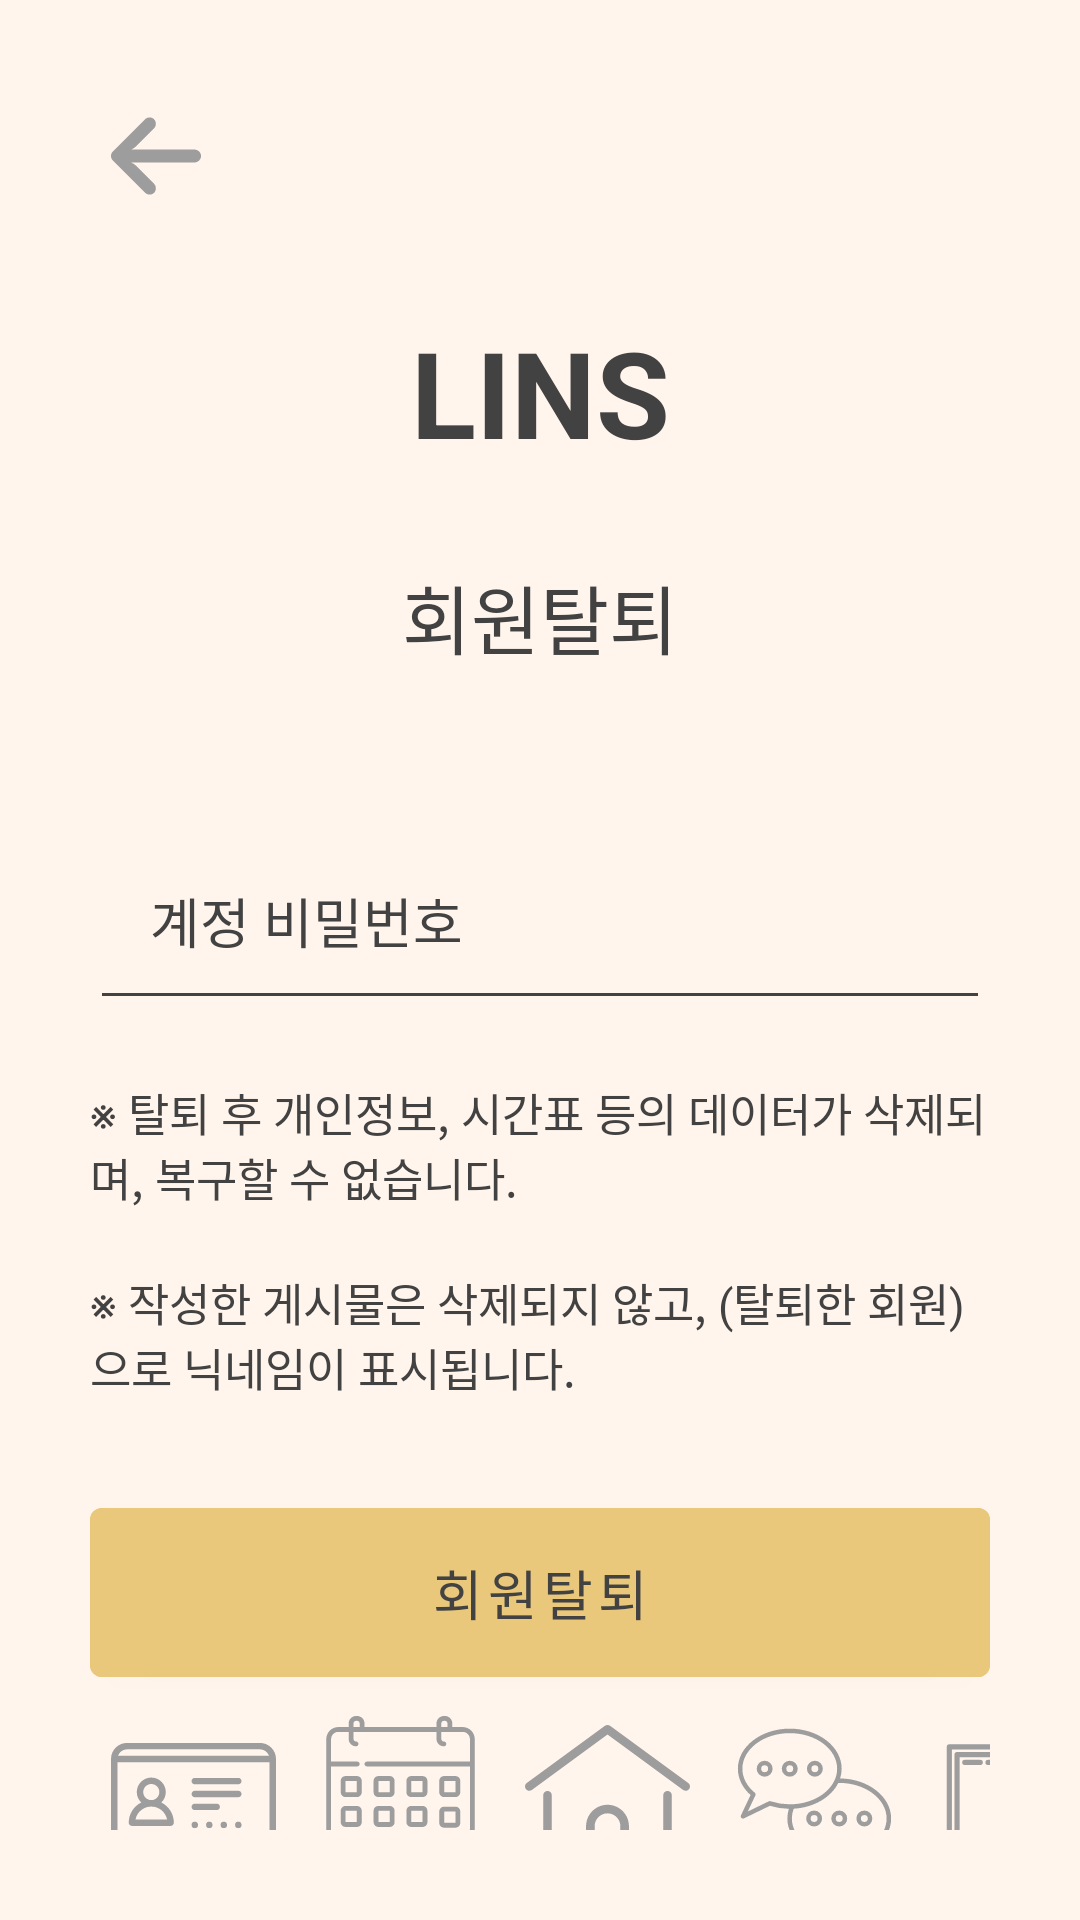

Icons on this 1080w x 1920h Android screen, each with its box as (x1, y1, x2, y2):
calendar: (326, 1716, 475, 1830)
community: (738, 1729, 891, 1830)
home: (525, 1725, 690, 1830)
left arrow: (111, 117, 201, 195)
license: (111, 1743, 276, 1830)
